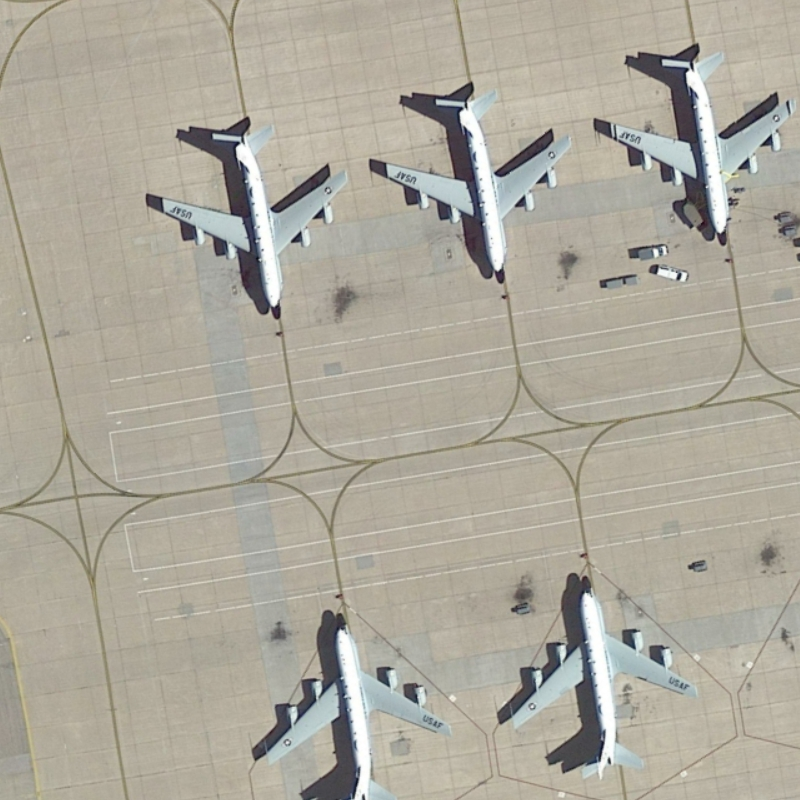A11: (149, 116, 356, 328), (496, 569, 702, 781), (600, 44, 799, 255), (378, 83, 576, 290), (257, 600, 456, 800)
